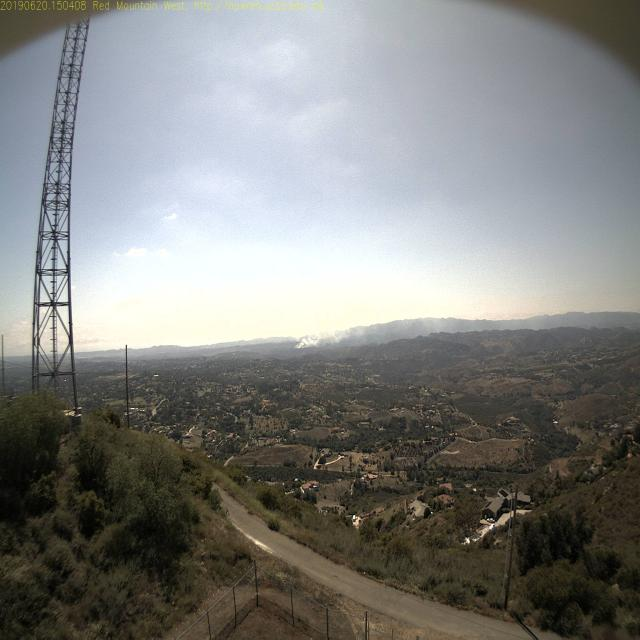smoke: (280, 325, 318, 360)
